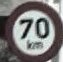Speed limit: (4, 3, 55, 55)
